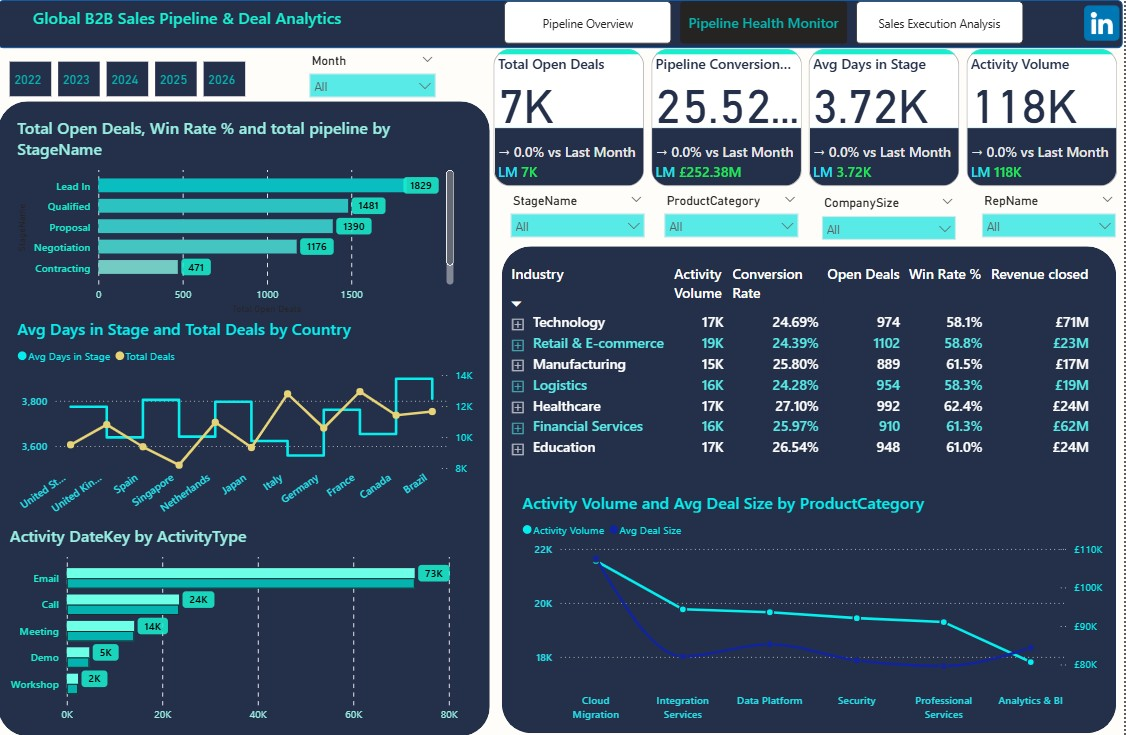

The page's visual inventory and layout, read from the dashboard file:
{"tool":"powerbi","page":{"name":" Pipeline Health Monitor","canvas":[1300,850],"ordinal":1},"visuals":[{"type":"cardVisual","fields":{"Data":["meausure table.Total Open Deals","meausure table.Pipeline Conversion Rate","meausure table.Avg Days in Stage","meausure table.Activity Volume"]},"box":[567.3,52,733.4,168.9],"z":0},{"type":"shape","box":[0,0,1298.9,55.7],"z":1000},{"type":"shape","box":[0,116.9,568.1,733.3],"z":2000},{"type":"textbox","box":[0,0,453.8,57.1],"z":3000},{"type":"shape","box":[582.2,284.9,709.7,562.5],"z":4000},{"type":"barChart","fields":{"Category":["FactDeals.StageName"],"Y":["meausure table.Total Open Deals"]},"box":[16.7,133.6,513.9,233.3],"z":5000},{"type":"areaChart","fields":{"Category":["DimCompany.Country"],"Y":["meausure table.Avg Days in Stage"],"Y2":["meausure table.Total Deals"]},"box":[16.7,366.9,536.1,238.9],"z":6000},{"type":"clusteredBarChart","title":" Activity DateKey by ActivityType","fields":{"Category":["FactActivities.ActivityType"],"Y":["CountNonNull(FactActivities.ActivityDateKey)","meausure table.Activity Volume"]},"box":[8.3,605.8,531.9,237.5],"z":7000},{"type":"pivotTable","fields":{"Rows":["DimCompany.Industry","DimCompany.Region"],"Values":["meausure table.Activity Volume","meausure table.Pipeline Conversion Rate","meausure table.Total Open Deals","meausure table.Win Rate %","meausure table.Revenue closed"]},"box":[582,297.1,710.3,270.1],"z":8000},{"type":"areaChart","fields":{"Category":["FactDeals.ProductCategory"],"Y":["meausure table.Activity Volume"],"Y2":["meausure table.Avg Deal Size"]},"box":[600.2,566.8,680.6,273.6],"z":9000},{"type":"pageNavigator","box":[584.8,1.4,599.4,50],"z":10000},{"type":"image","box":[1248,1.4,52,50.5],"z":11000},{"type":"advancedSlicerVisual","fields":{"Values":["Calendar.Year"]},"box":[8.7,66.4,285.8,50.5],"z":12000},{"type":"slicer","fields":{"Values":["Calendar.MonthName"]},"box":[349.4,56.3,166,63.5],"z":13000},{"type":"slicer","fields":{"Values":["DimSalesRep.RepName"]},"box":[1126,218,174.7,63.5],"z":14000},{"type":"slicer","fields":{"Values":["DimCompany.CompanySize"]},"box":[941.2,220.9,174.7,63.5],"z":15000},{"type":"slicer","fields":{"Values":["FactActivities.ProductCategory"]},"box":[759.3,218,174.7,63.5],"z":16000},{"type":"slicer","fields":{"Values":["FactDeals.StageName"]},"box":[581.8,218,174.7,70.7],"z":17000}]}

Visuals, with their boxes in screenshot pixels (x1, y1, x2, y2), scaled from the page's 1300x850 canvas onto the 1126x735 screenshot:
cardVisual - meausure table.Total Open Deals x meausure table.Pipeline Conversion Rate: x1=491, y1=45, x2=1125, y2=191
shape: x1=0, y1=0, x2=1125, y2=48
shape: x1=0, y1=101, x2=492, y2=734
textbox: x1=0, y1=0, x2=393, y2=49
shape: x1=504, y1=246, x2=1119, y2=733
barChart - FactDeals.StageName x meausure table.Total Open Deals: x1=14, y1=116, x2=460, y2=317
areaChart - DimCompany.Country x meausure table.Avg Days in Stage: x1=14, y1=317, x2=479, y2=524
" Activity DateKey by ActivityType" clusteredBarChart: x1=7, y1=524, x2=468, y2=729
pivotTable - DimCompany.Industry x DimCompany.Region: x1=504, y1=257, x2=1119, y2=490
areaChart - FactDeals.ProductCategory x meausure table.Activity Volume: x1=520, y1=490, x2=1109, y2=727
pageNavigator: x1=507, y1=1, x2=1026, y2=44
image: x1=1081, y1=1, x2=1125, y2=45
advancedSlicerVisual - Calendar.Year: x1=8, y1=57, x2=255, y2=101
slicer - Calendar.MonthName: x1=303, y1=49, x2=446, y2=104
slicer - DimSalesRep.RepName: x1=975, y1=189, x2=1125, y2=243
slicer - DimCompany.CompanySize: x1=815, y1=191, x2=967, y2=246
slicer - FactActivities.ProductCategory: x1=658, y1=189, x2=809, y2=243
slicer - FactDeals.StageName: x1=504, y1=189, x2=655, y2=250
